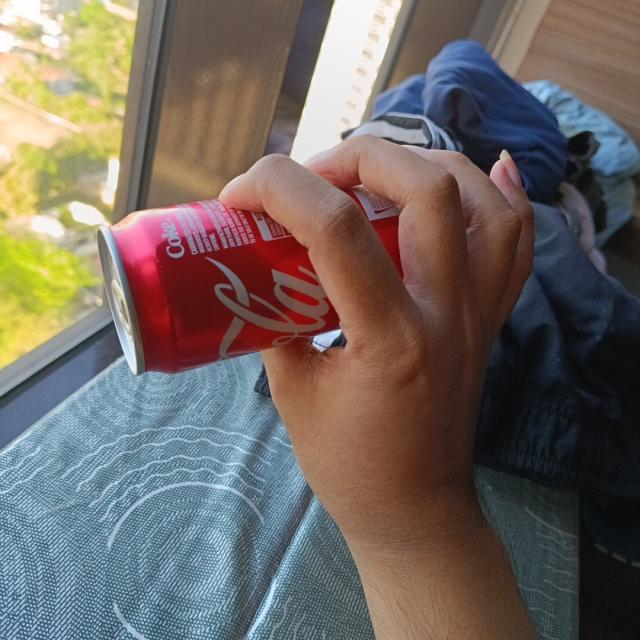coke: (92, 185, 406, 378)
